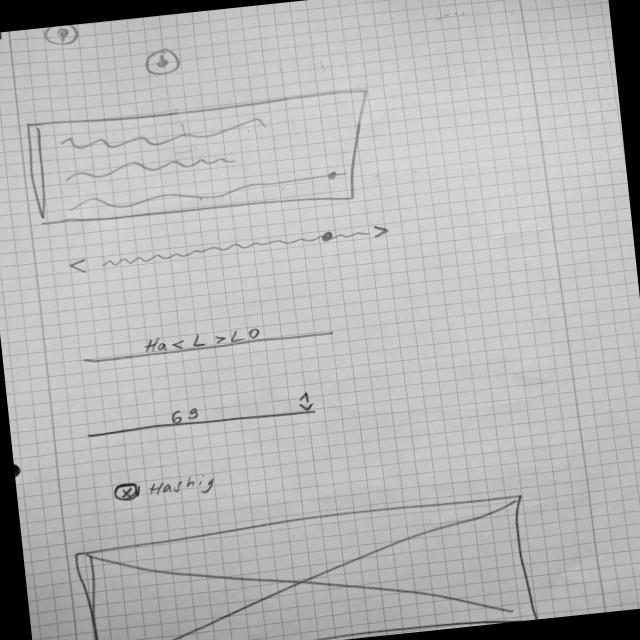icon-button: (138, 44, 186, 79), (41, 23, 82, 48), (110, 479, 144, 504)
image: (67, 490, 541, 640)
input: (76, 314, 338, 366)
label: (146, 469, 220, 502)
link: (65, 218, 395, 276), (170, 328, 229, 349)
number-input: (80, 387, 320, 441)
slider: (66, 164, 348, 213), (97, 224, 371, 268)
textbox: (19, 86, 383, 232)
